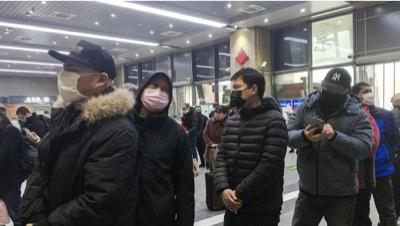with_mask: (57, 61, 93, 103), (141, 81, 171, 111), (320, 86, 348, 108), (229, 81, 249, 108), (360, 86, 375, 104), (17, 114, 27, 123), (175, 118, 182, 125), (182, 106, 188, 114)
without_mask: (214, 110, 223, 120)
